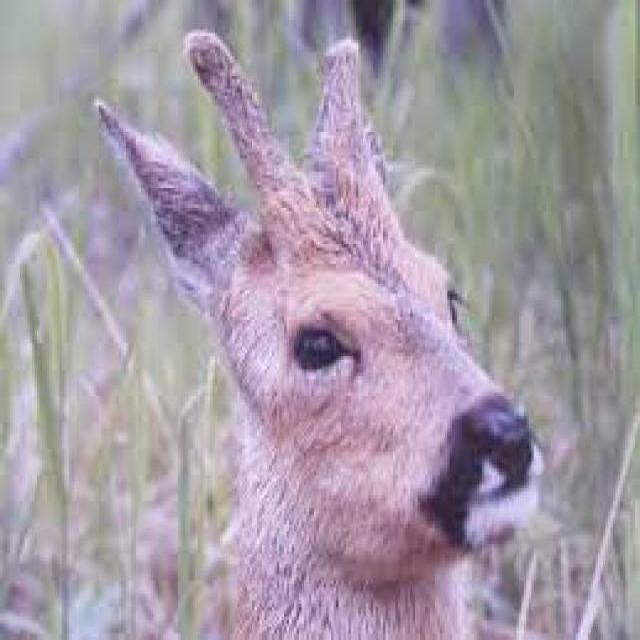deer: (96, 8, 556, 621)
